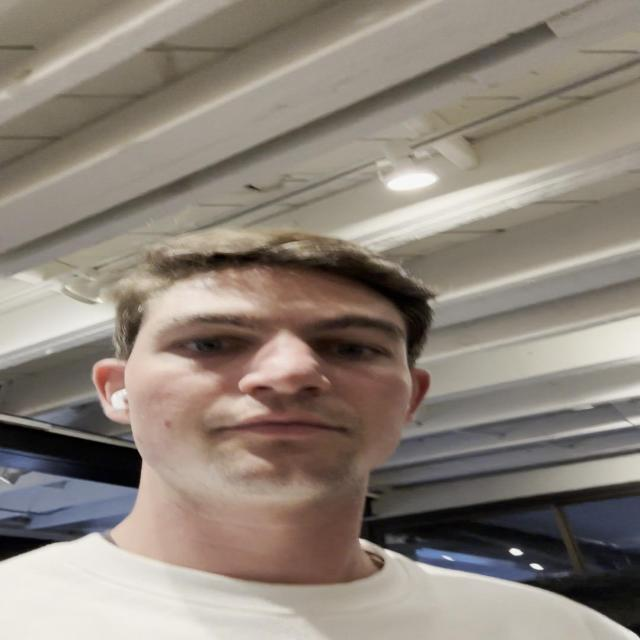no hat: (94, 228, 430, 508)
